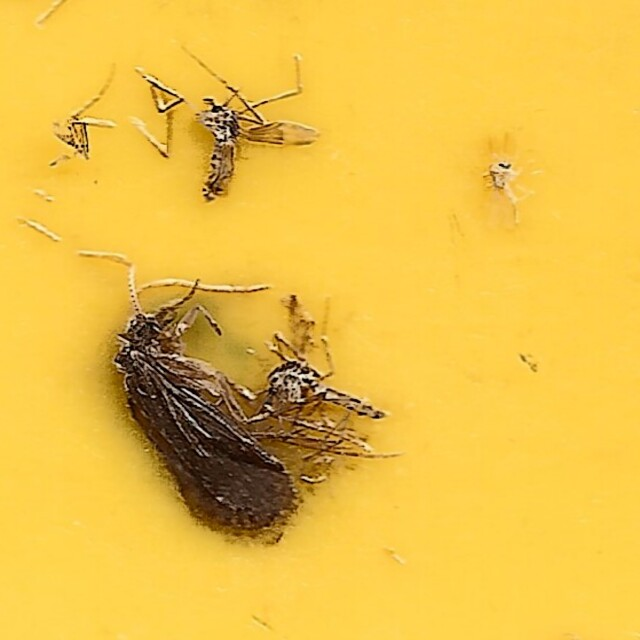Nematocera: (256, 354, 392, 478), (187, 97, 324, 209), (479, 148, 526, 224)
Trichoptera: (114, 311, 301, 543)
